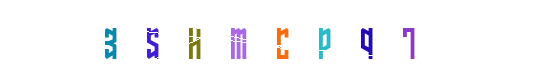3: (154, 0, 234, 80)
7: (336, 0, 416, 80)
C: (223, 0, 303, 80)
H: (210, 0, 290, 80)
M: (213, 0, 293, 80)
P: (236, 0, 316, 80)
Q: (241, 0, 321, 80)
S: (171, 0, 251, 80)
